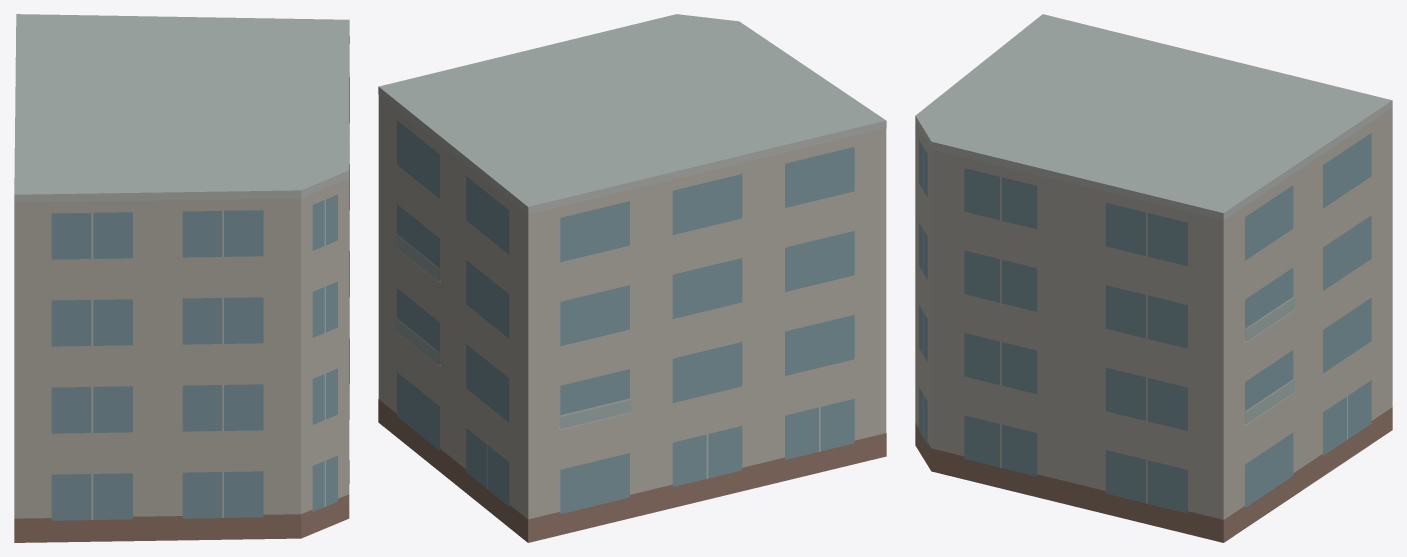
File: survey-upis-32686268.glb
3 renders of one model, left to right at view 1: azimuth 30°, elevation 25°; view 2: azimuth 150°, elevation 25°; view 3: azimuth 270°, elevation 25°, orthographic. The views are drawn at different scales.
Visible parts, largest first — view 1: survey-upis-32686268.tmp; view 2: survey-upis-32686268.tmp; view 3: survey-upis-32686268.tmp.
Part boxes in pixels (x1=…): survey-upis-32686268.tmp: x1=14, y1=14, x2=349, y2=542; survey-upis-32686268.tmp: x1=378, y1=14, x2=886, y2=542; survey-upis-32686268.tmp: x1=915, y1=14, x2=1392, y2=542.
Bounding box in the file's own units: 13.87 × 10.7 × 14.04.
